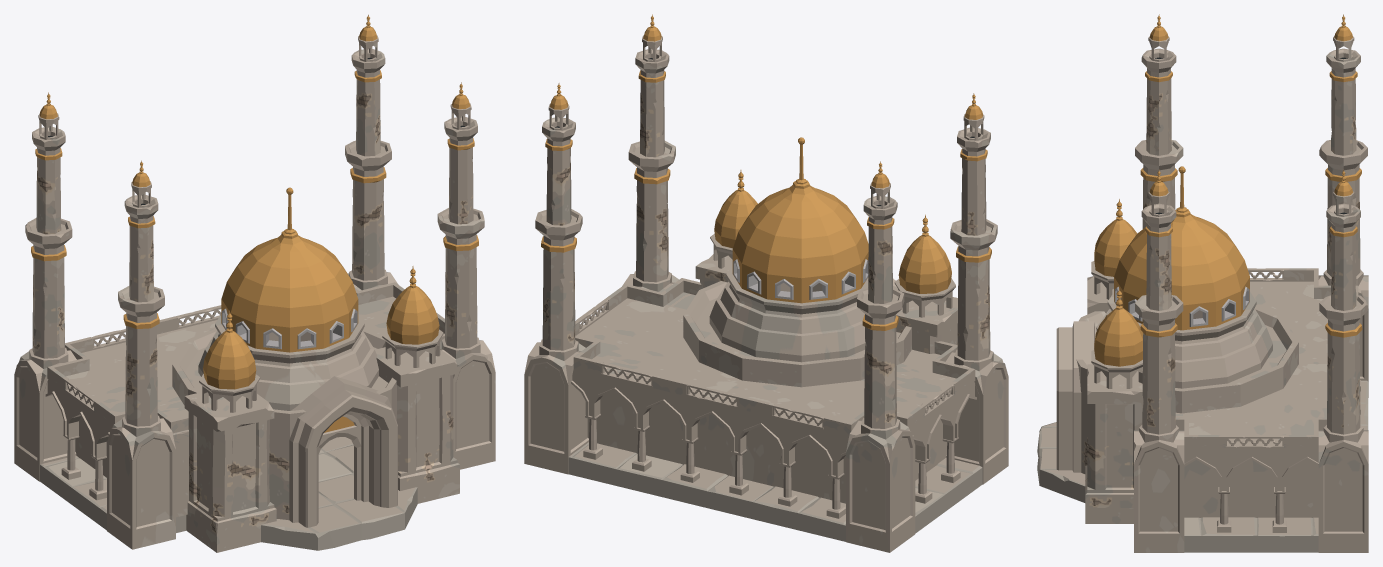
File: SM_Bld_Hall_02.glb
3 renders of one model, left to right at view 1: azimuth 30°, elevation 25°; view 2: azimuth 150°, elevation 25°; view 3: azimuth 270°, elevation 25°, orthographic.
Parts seen in each view (by area): view 1: SM_Bld_Hall_02; view 2: SM_Bld_Hall_02; view 3: SM_Bld_Hall_02.
Part boxes in pixels (bbox=[...]): SM_Bld_Hall_02: bbox=[14, 14, 495, 552]; SM_Bld_Hall_02: bbox=[524, 14, 1008, 552]; SM_Bld_Hall_02: bbox=[1037, 14, 1368, 552].
Bounding box in the file's own units: 22.47 × 22.18 × 17.86.
2 materials, 2 textured.
